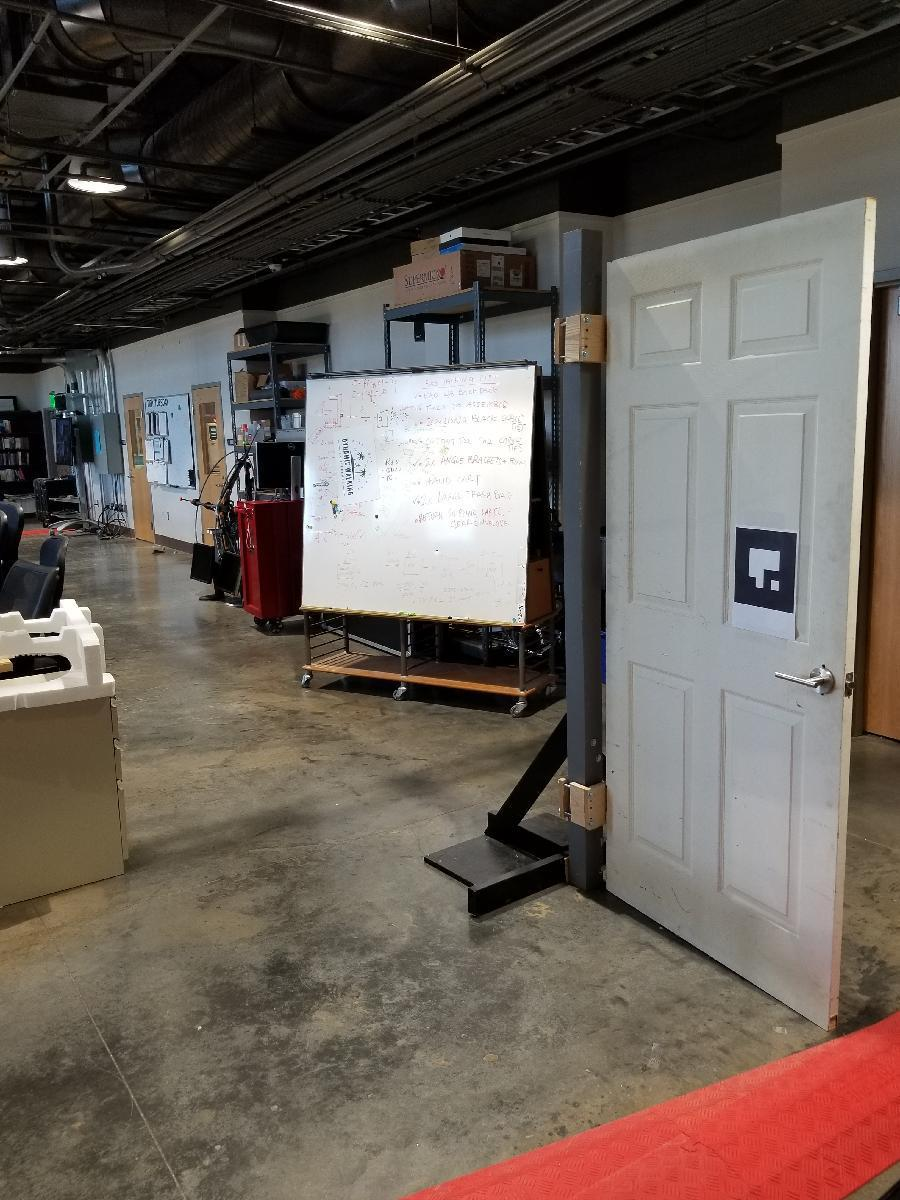door: (596, 252, 849, 986), (185, 380, 235, 552), (116, 393, 162, 541)
handle: (774, 658, 837, 700)
